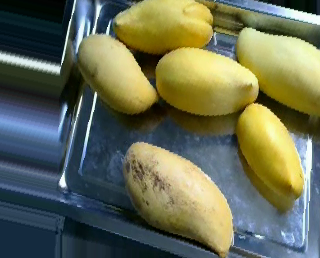Mango: (124, 141, 234, 255), (237, 26, 320, 116), (154, 47, 259, 114), (236, 102, 305, 198), (78, 35, 159, 113), (112, 0, 215, 54)
